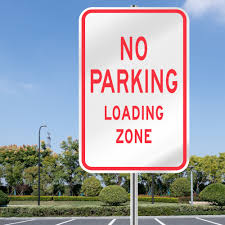No Parking No Arrow: (84, 16, 182, 165)
